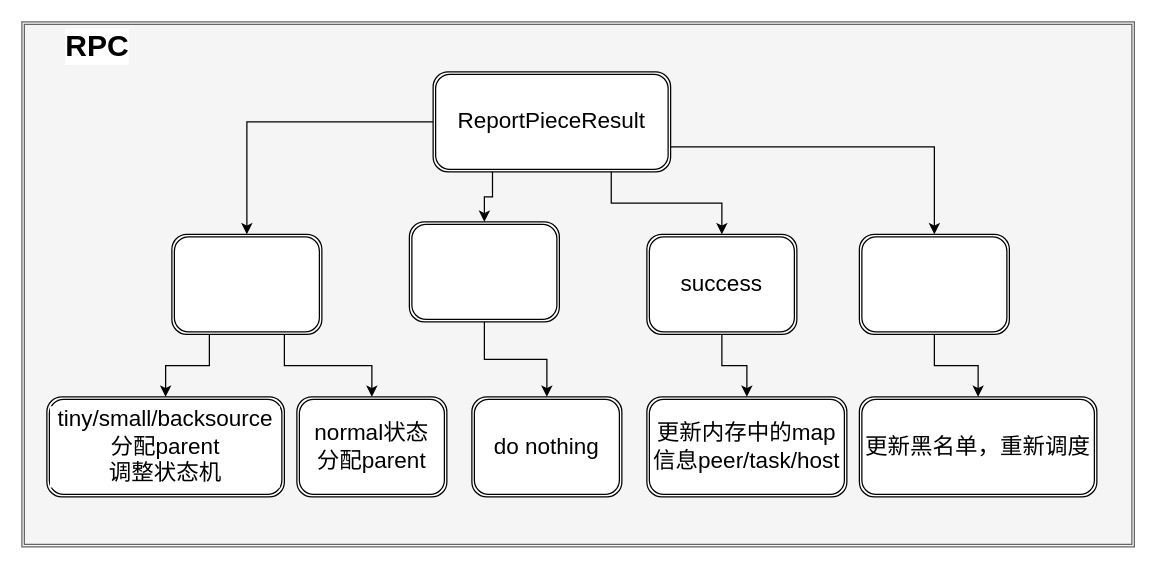
This 1156x569 diagram has some shape labels left out. The shapes that lost their labels are listed below. From the top down, each one's centre as x and y in pixels, then its label:
[246,283]: Begin Piece
[483,271]: End piece
[933,283]: fail
